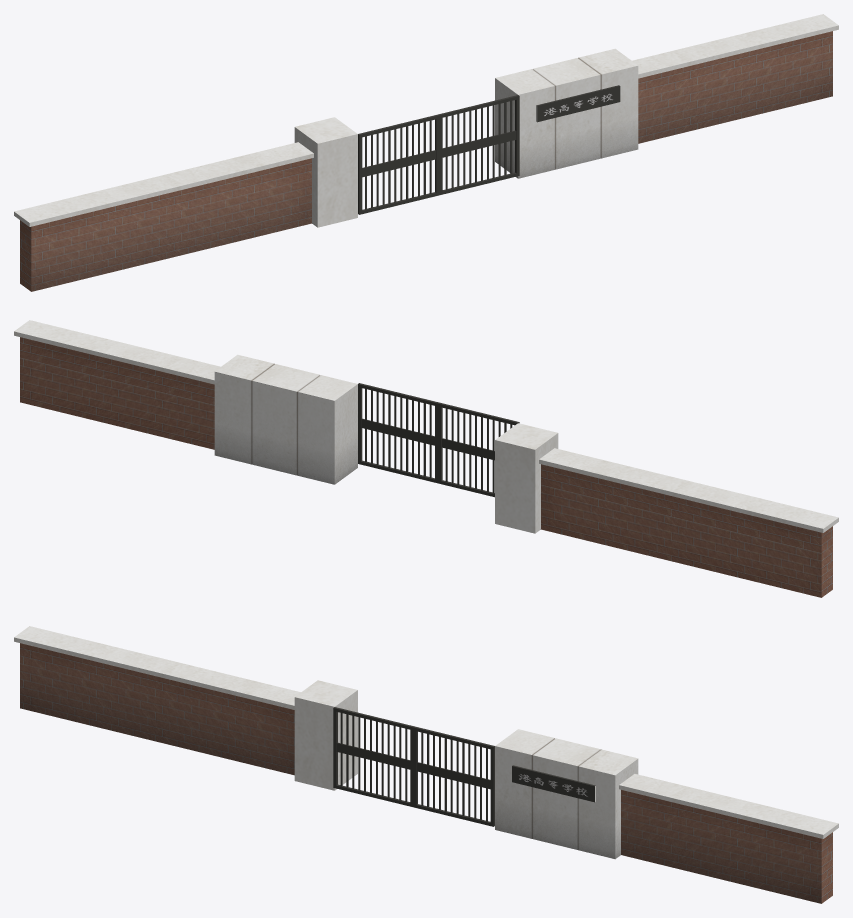
File: entrance01_door.dae
The picture shows the model from 3 angles, top to bottom: view 1: azimuth 30°, elevation 25°; view 2: azimuth 150°, elevation 25°; view 3: azimuth 330°, elevation 25°; orthographic projection.
Parts seen in each view (by area): view 1: entrance01_leftwall, entrance01_rightwall, entrance01_leftdoor, entrance01_rightdoor, entrance01_sign; view 2: entrance01_rightwall, entrance01_leftwall, entrance01_rightdoor, entrance01_leftdoor; view 3: entrance01_rightwall, entrance01_leftwall, entrance01_rightdoor, entrance01_leftdoor, entrance01_sign.
Boxes of the visible parts, box(x1,y1,x2,y2) form: entrance01_leftwall: box(14, 117, 357, 291); entrance01_rightwall: box(495, 14, 838, 178); entrance01_leftdoor: box(358, 114, 439, 214); entrance01_rightdoor: box(438, 95, 519, 195); entrance01_sign: box(536, 85, 620, 122); entrance01_rightwall: box(14, 320, 357, 484); entrance01_leftwall: box(495, 423, 838, 597); entrance01_rightdoor: box(358, 383, 438, 483); entrance01_leftdoor: box(438, 402, 519, 497); entrance01_rightwall: box(495, 729, 838, 903); entrance01_leftwall: box(14, 626, 357, 790); entrance01_rightdoor: box(413, 726, 494, 826); entrance01_leftdoor: box(333, 707, 414, 807); entrance01_sign: box(512, 765, 595, 802).
Bounding box in the file's own units: 20.19 × 2 × 1.06.
